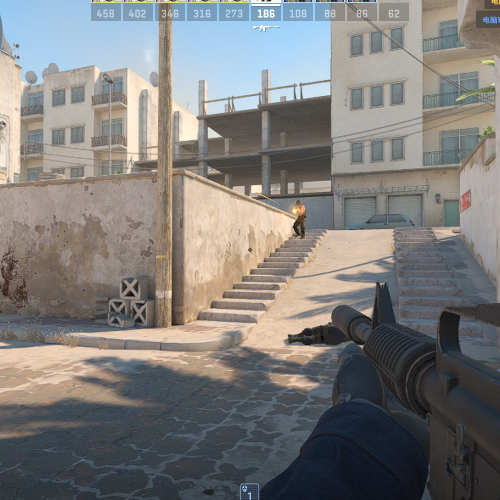t_body: (291, 200, 307, 240)
t_head: (295, 200, 302, 208)
